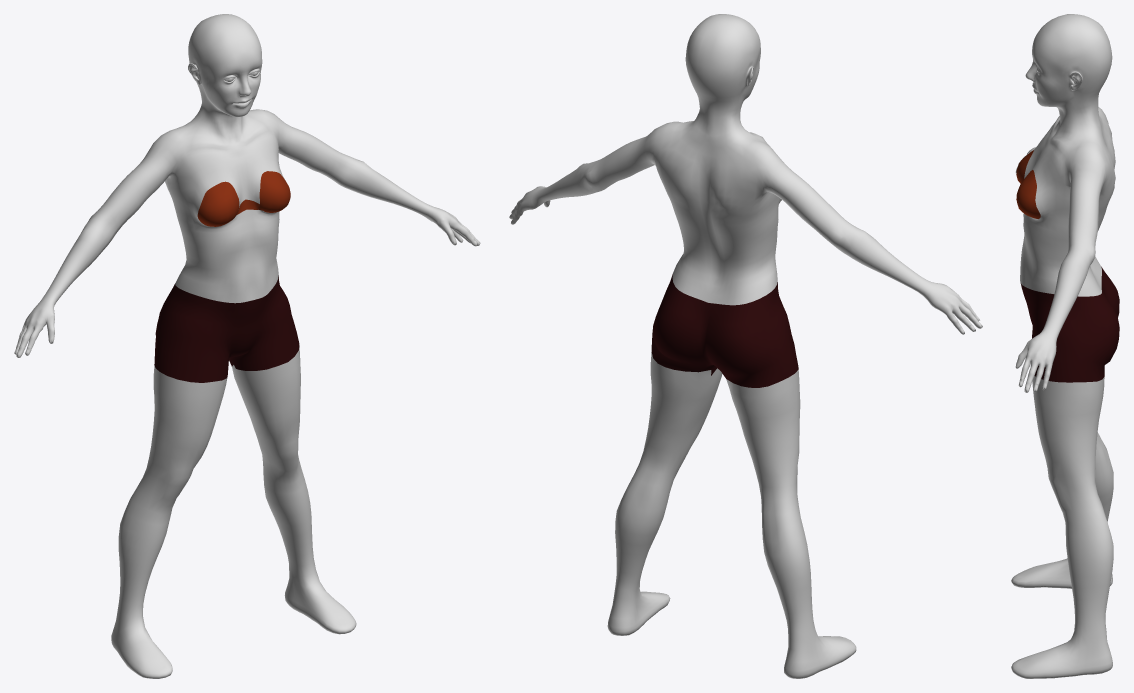
The model's file is Femal_Base_Mesh.obj.
3 renders of one model, left to right at view 1: azimuth 30°, elevation 25°; view 2: azimuth 150°, elevation 25°; view 3: azimuth 270°, elevation 25°, orthographic. The views are drawn at different scales.
Visible parts, largest first — view 1: Female_Base_Mesh_Female_Base_mesh, Shorts_Female_Base_Mesh_Female_Base_mesh.002, Bra_Female_Base_Mesh_Female_Base_mesh.001; view 2: Female_Base_Mesh_Female_Base_mesh, Shorts_Female_Base_Mesh_Female_Base_mesh.002; view 3: Female_Base_Mesh_Female_Base_mesh, Shorts_Female_Base_Mesh_Female_Base_mesh.002, Bra_Female_Base_Mesh_Female_Base_mesh.001.
Boxes of the visible parts, <box> form: Female_Base_Mesh_Female_Base_mesh: <box>14,14,480,678</box>; Shorts_Female_Base_Mesh_Female_Base_mesh.002: <box>154,275,299,382</box>; Bra_Female_Base_Mesh_Female_Base_mesh.001: <box>197,171,290,226</box>; Female_Base_Mesh_Female_Base_mesh: <box>509,14,982,678</box>; Shorts_Female_Base_Mesh_Female_Base_mesh.002: <box>651,274,798,387</box>; Female_Base_Mesh_Female_Base_mesh: <box>1011,14,1115,678</box>; Shorts_Female_Base_Mesh_Female_Base_mesh.002: <box>1020,266,1119,382</box>; Bra_Female_Base_Mesh_Female_Base_mesh.001: <box>1016,150,1040,218</box>.
Size of the model in its own units: 1.23 by 1.56 by 0.2514.
